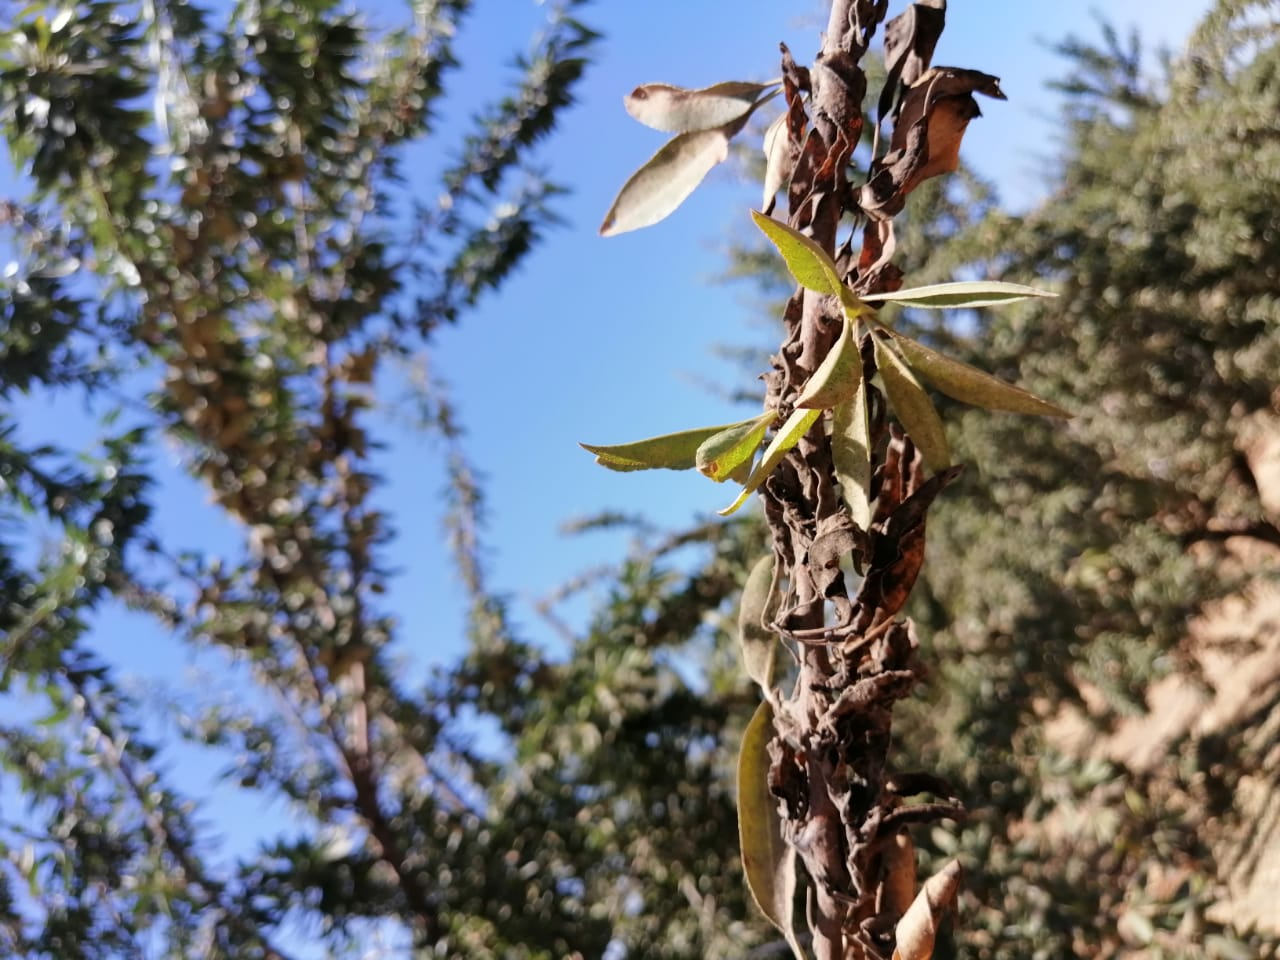scolytes: (760, 1, 1007, 960)
